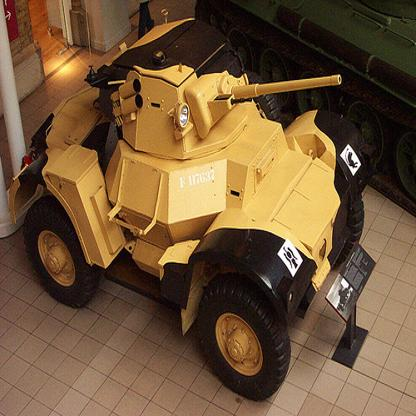Tank: (11, 9, 368, 390)
